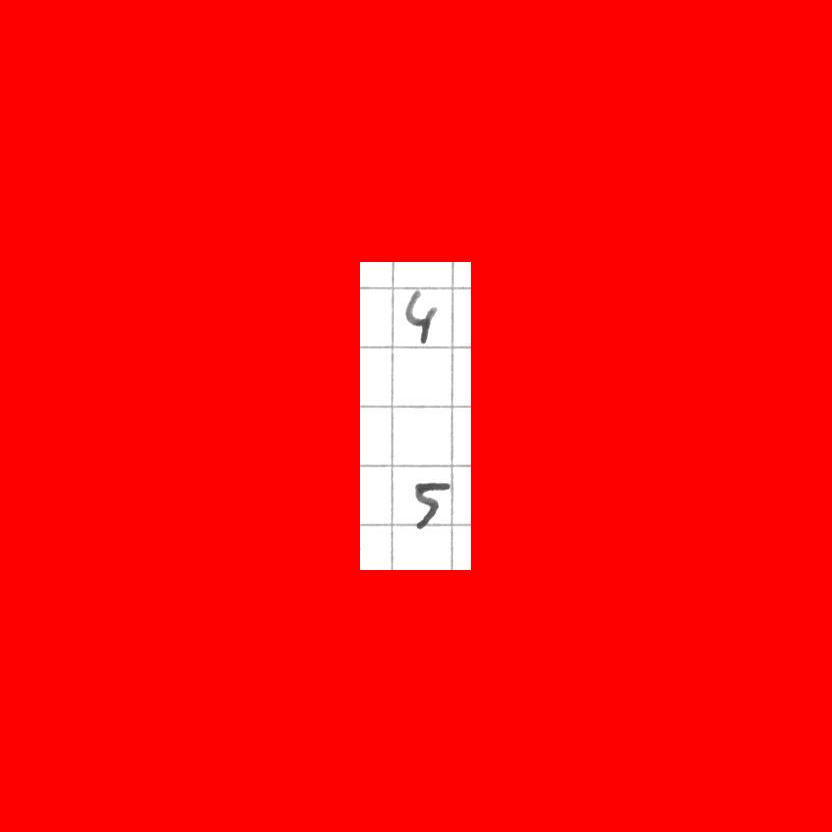Char: (410, 473, 453, 532), (401, 285, 443, 345)
